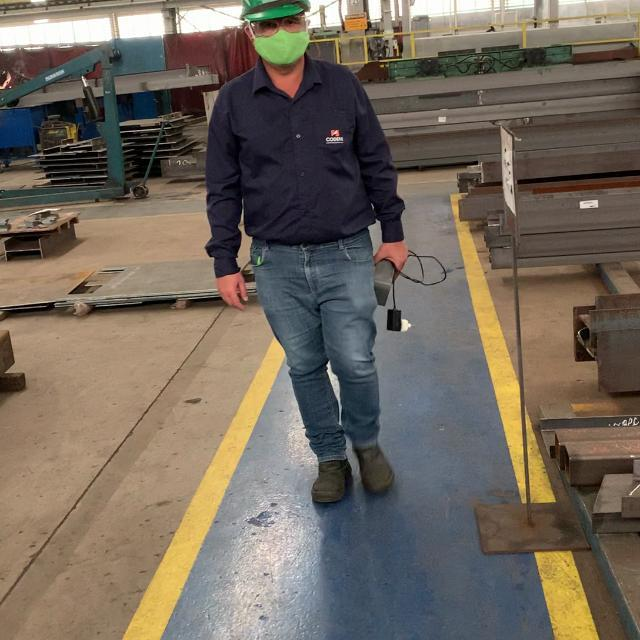glove: (239, 2, 315, 15)
helmet: (251, 29, 312, 64)
mask: (201, 1, 409, 506)
person: (247, 21, 316, 35)
safety-shoe: (357, 446, 396, 497), (311, 461, 352, 506)
